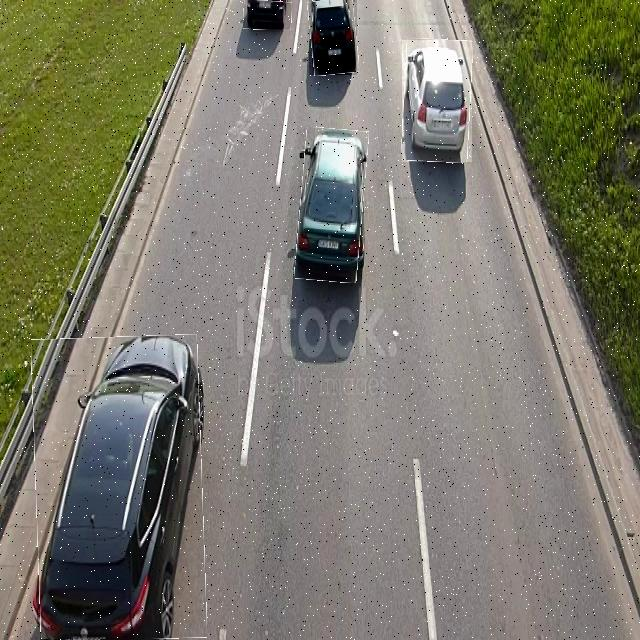Car: (33, 335, 204, 640), (298, 128, 366, 282), (402, 40, 472, 162), (309, 0, 357, 75), (243, 0, 291, 29)
